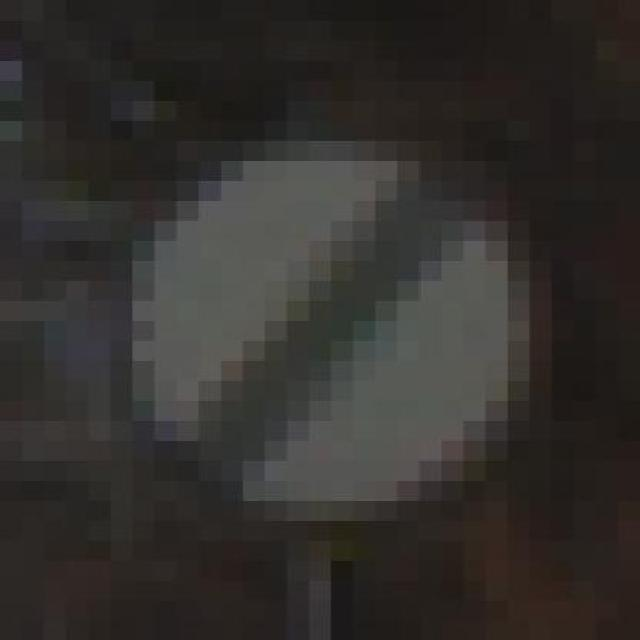End of all speed and passing limits: (89, 100, 552, 520)
